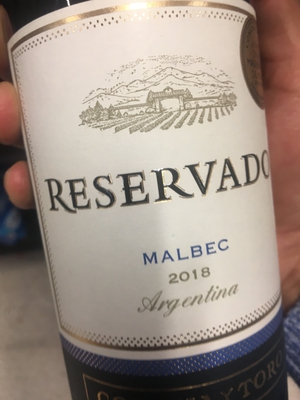reservado malbec: (8, 6, 289, 400)
